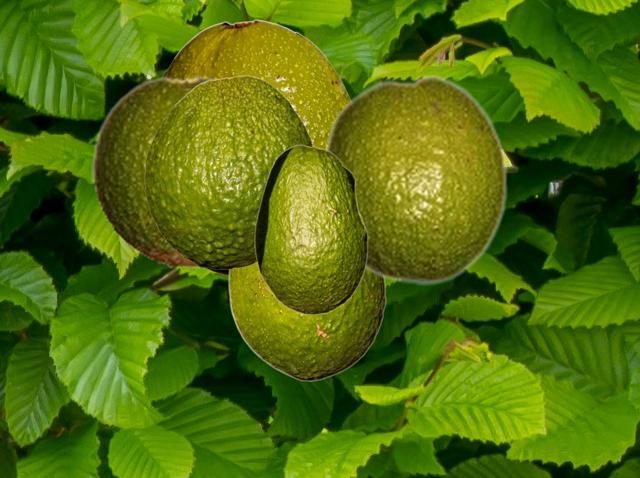avocado: (161, 19, 350, 275), (321, 73, 508, 286), (144, 75, 313, 268), (91, 75, 222, 268), (254, 144, 367, 314), (228, 264, 385, 380)
